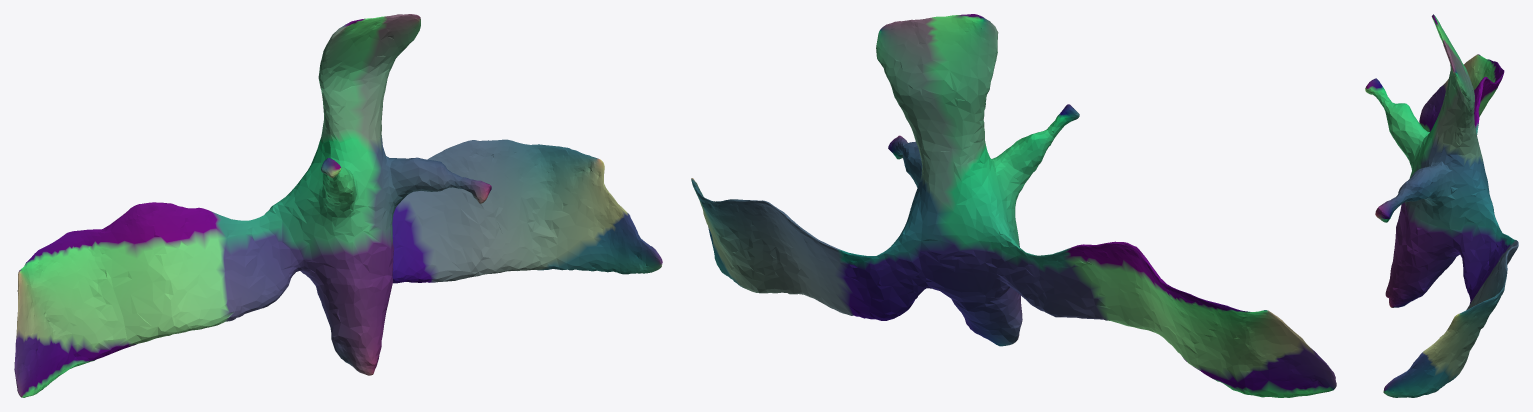
The model's file is bird2-4.off.obj.
The picture shows the model from 3 angles, left to right: view 1: azimuth 30°, elevation 25°; view 2: azimuth 150°, elevation 25°; view 3: azimuth 270°, elevation 25°; orthographic projection. The views are drawn at different scales.
Size of the model in its own units: 1.59 by 0.8159 by 0.3877.
